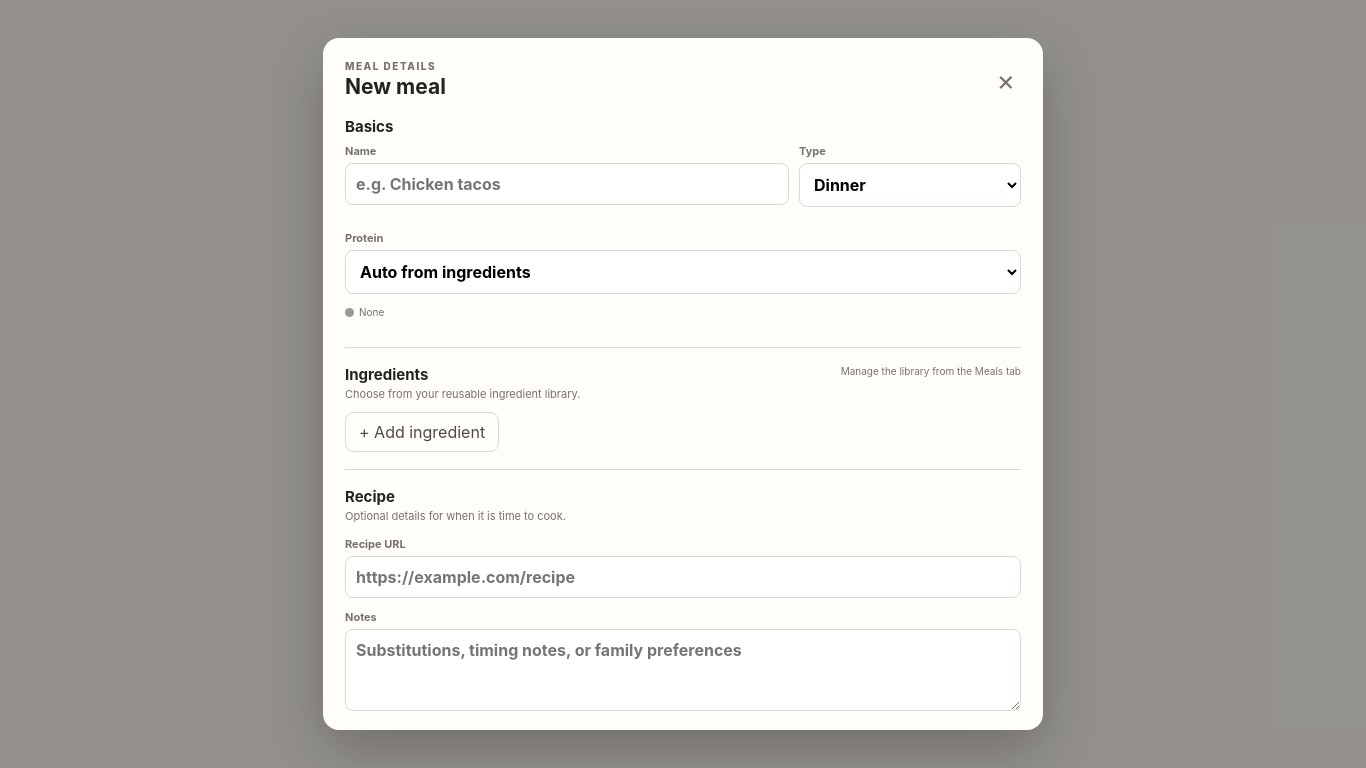
Scenario: MealForm ingredient picker › offers to create an ingredient when typed text has no exact catalog match
This screenshot has width=1366, height=768.
Click the button "+ Add ingredient" at coordinates (422, 432), box [345, 412, 499, 452]
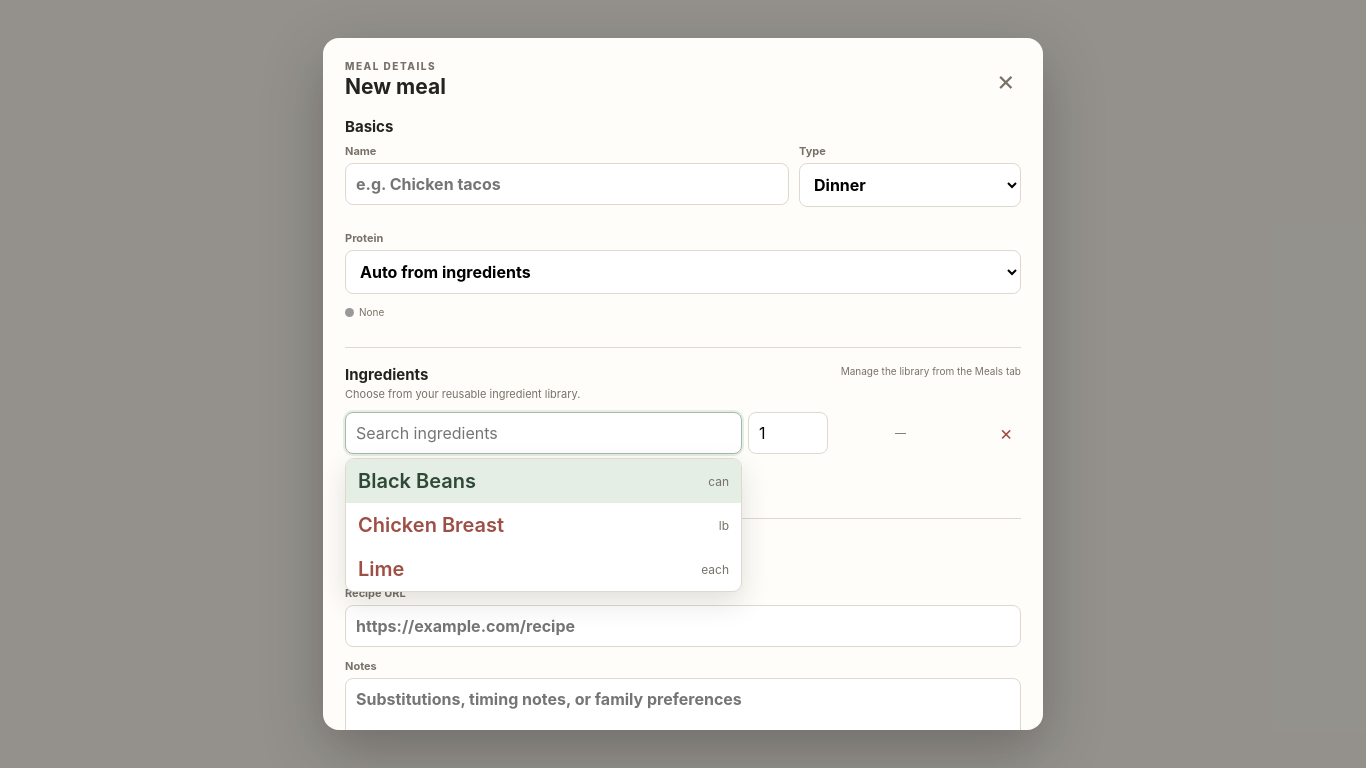
Type "Shallot" into the dropdown named "Ingredient 1" at coordinates (544, 433), box [345, 412, 742, 454]
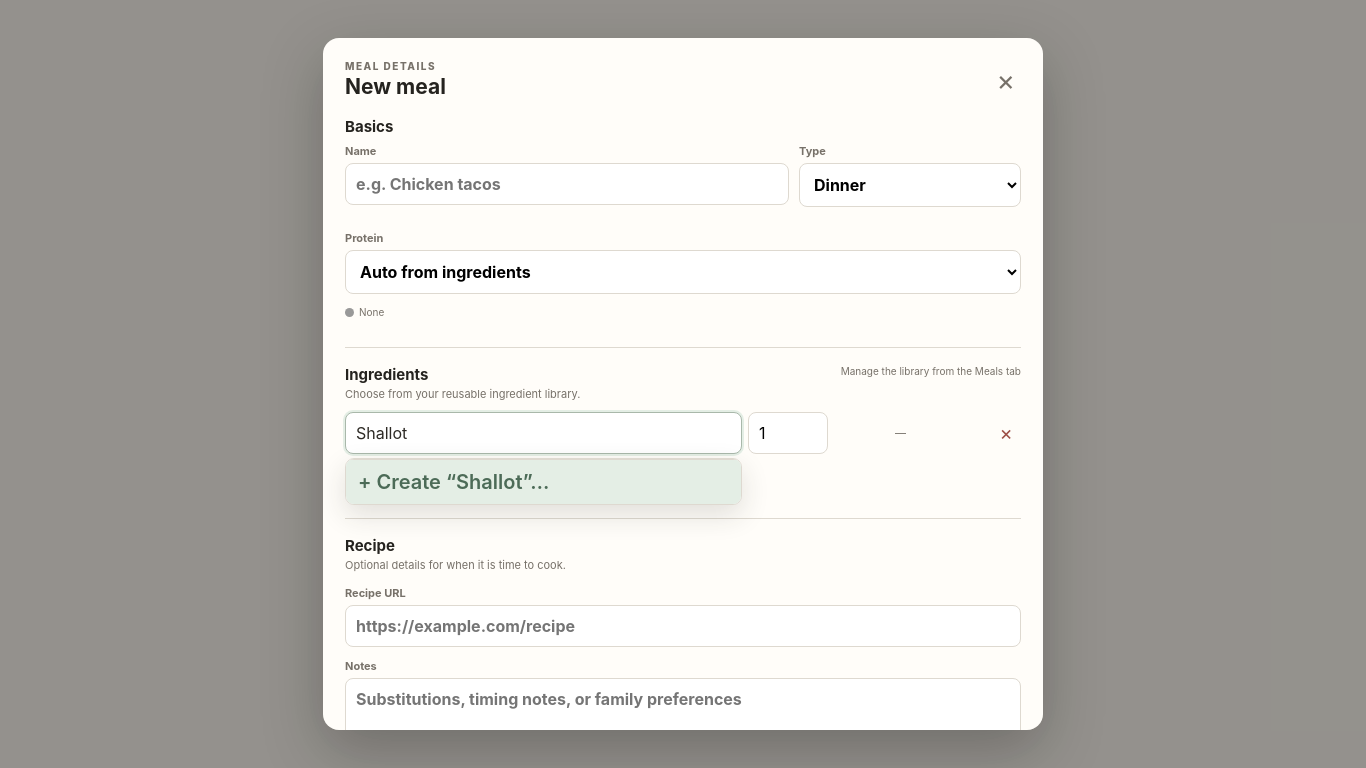
Check: the option "+ Create “Shallot”…" is shown, box [346, 460, 741, 504]
